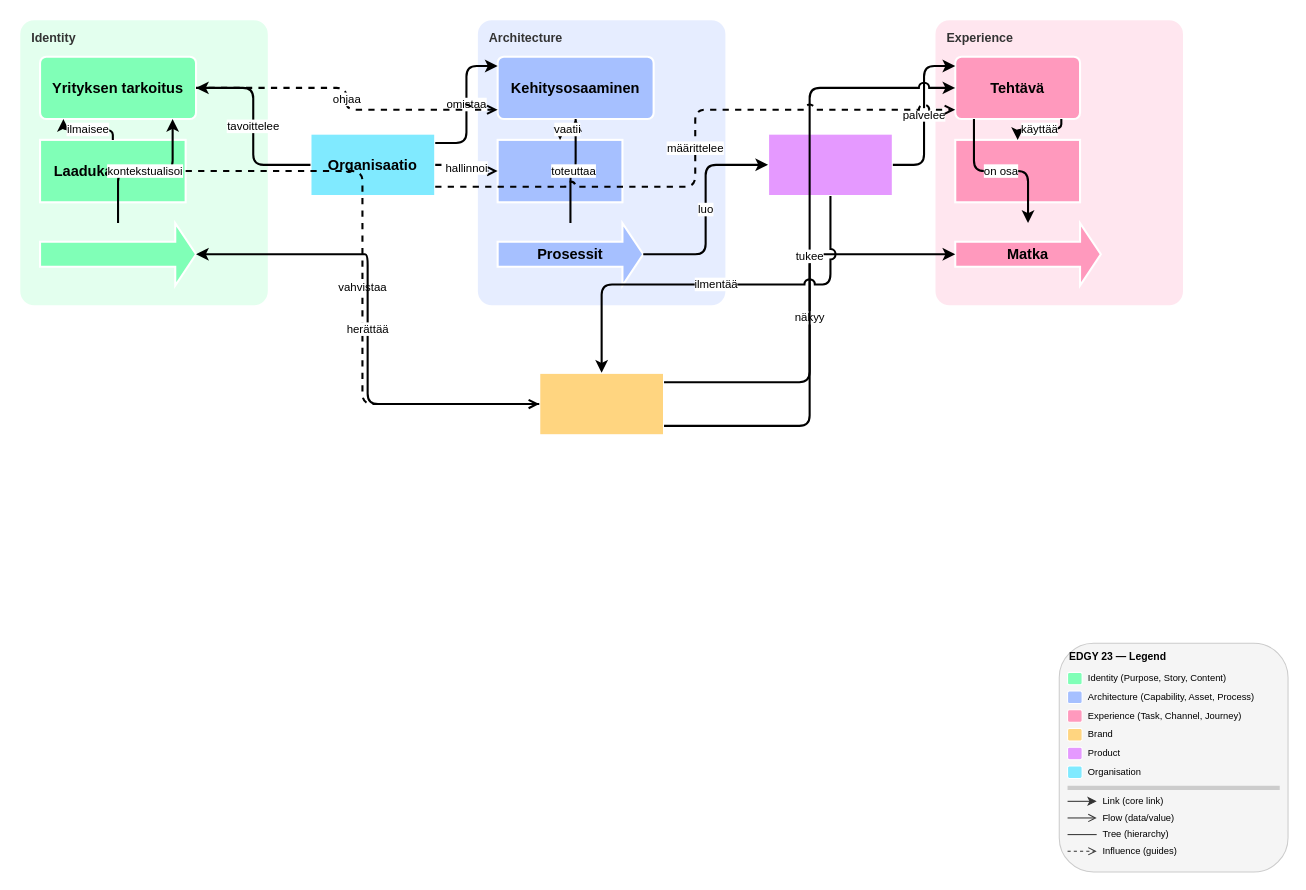
This 1306x890 diagram has some shape labels left out. The box of each missing label's shape, as (x1, y1, x2, y2) in pixels:
Brändi: (538, 371, 665, 436)
Kanava: (954, 138, 1081, 203)
Resurssit: (496, 138, 623, 203)
Tuote: (766, 132, 893, 197)
Yhteinen tarina: (38, 222, 197, 286)
